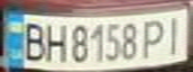1: (87, 20, 109, 63)
5: (103, 19, 124, 62)
8: (66, 20, 90, 64), (118, 19, 142, 61)
B: (15, 18, 48, 62)
H: (42, 20, 69, 63)
I: (160, 12, 190, 56)
P: (139, 16, 172, 58)
